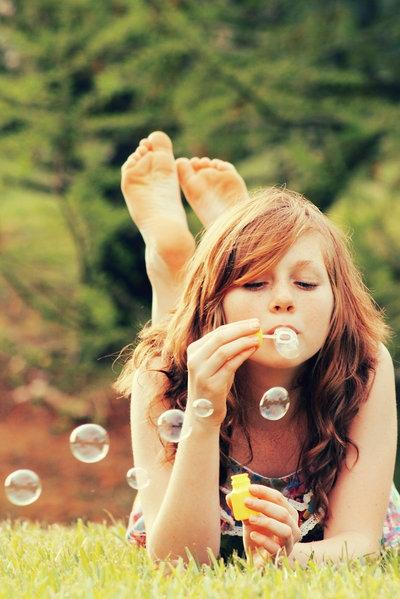person: (118, 120, 399, 581)
